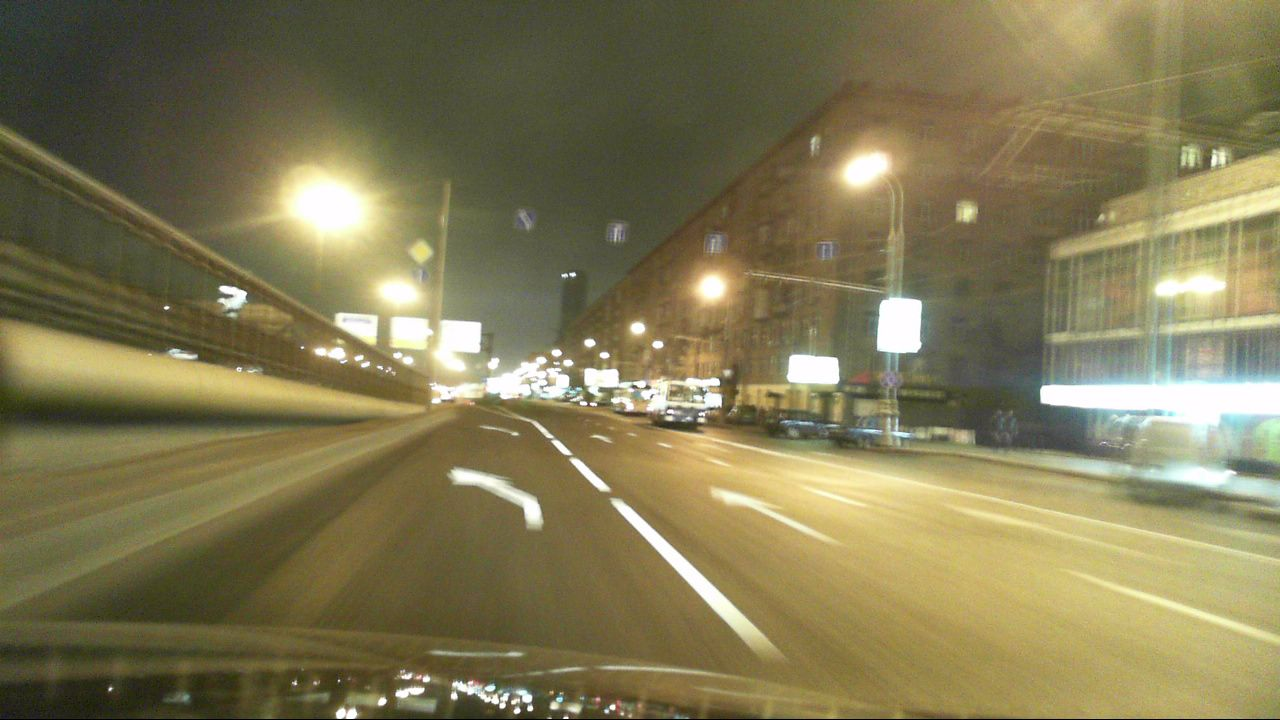No Parking: (880, 369, 898, 388)
